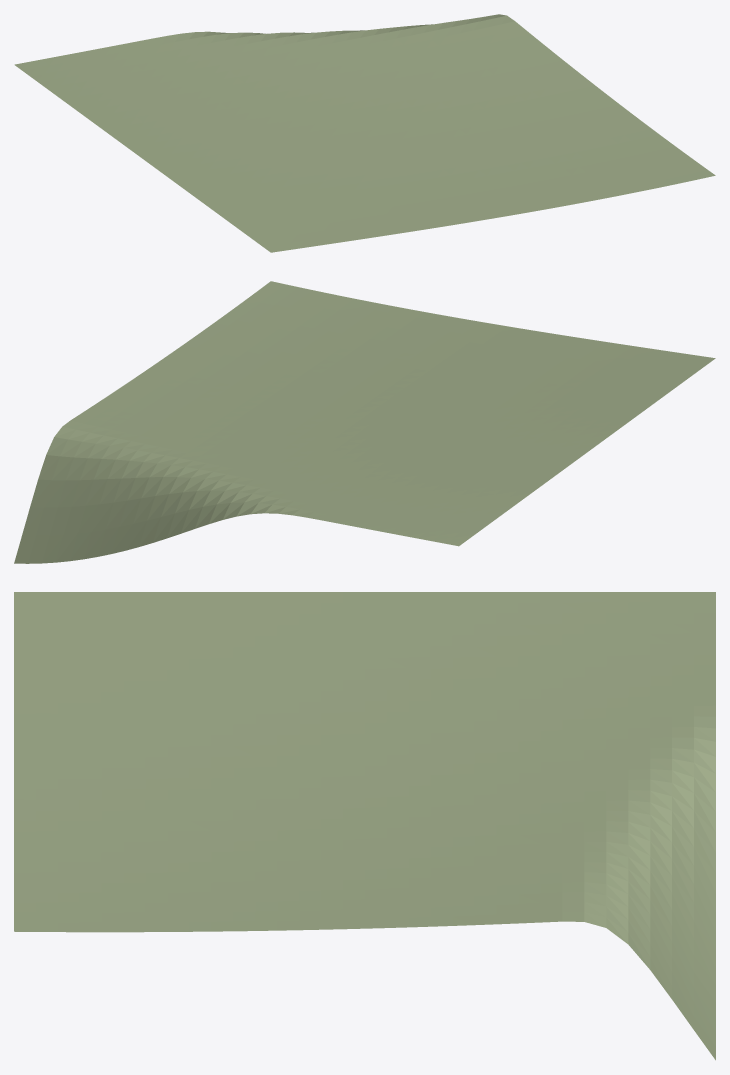
The model's file is canyon-0-2.glb.
3 views of the same model, one above another, from view 1: azimuth 30°, elevation 25°; view 2: azimuth 150°, elevation 25°; view 3: azimuth 270°, elevation 25° (orthographic). The views are drawn at different scales.
Visible parts, largest first — view 1: canyon-0-2; view 2: canyon-0-2; view 3: canyon-0-2.
Boxes of the visible parts, x1,y1,x2,y2 form: canyon-0-2: [14, 14, 715, 252]; canyon-0-2: [14, 281, 715, 563]; canyon-0-2: [14, 592, 715, 1060].
Size of the model in its own units: 128 by 34.61 by 128.
